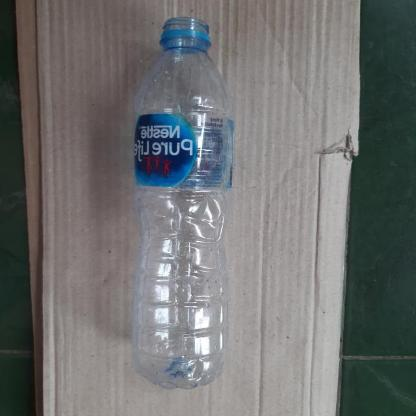Plastic Bottle: (125, 12, 235, 392)
